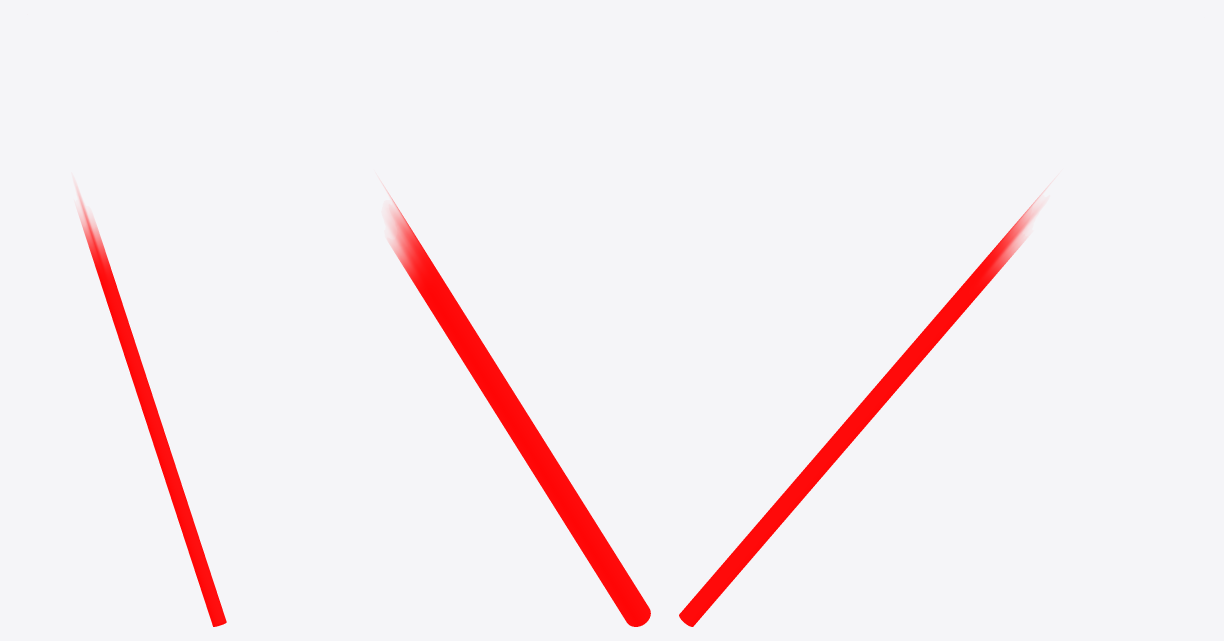
File: laser.glb
3 views of the same model, side by side, from view 1: azimuth 30°, elevation 25°; view 2: azimuth 150°, elevation 25°; view 3: azimuth 270°, elevation 25° (orthographic). The views are drawn at different scales.
Parts seen in each view (by area): view 1: light_1.011_low.001; view 2: light_1.011_low.001; view 3: light_1.011_low.001.
Boxes of the visible parts, x1=… form: light_1.011_low.001: x1=78, y1=192, x2=226, y2=626; light_1.011_low.001: x1=388, y1=193, x2=650, y2=626; light_1.011_low.001: x1=679, y1=195, x2=1040, y2=626.
Bounding box in the file's own units: 0.0166 × 0.5985 × 0.4718.
1 material, 1 textured.
